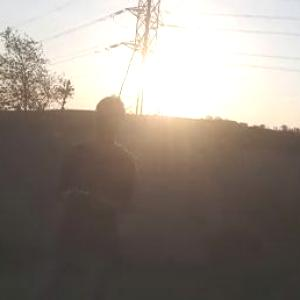follow: (49, 92, 139, 299)
